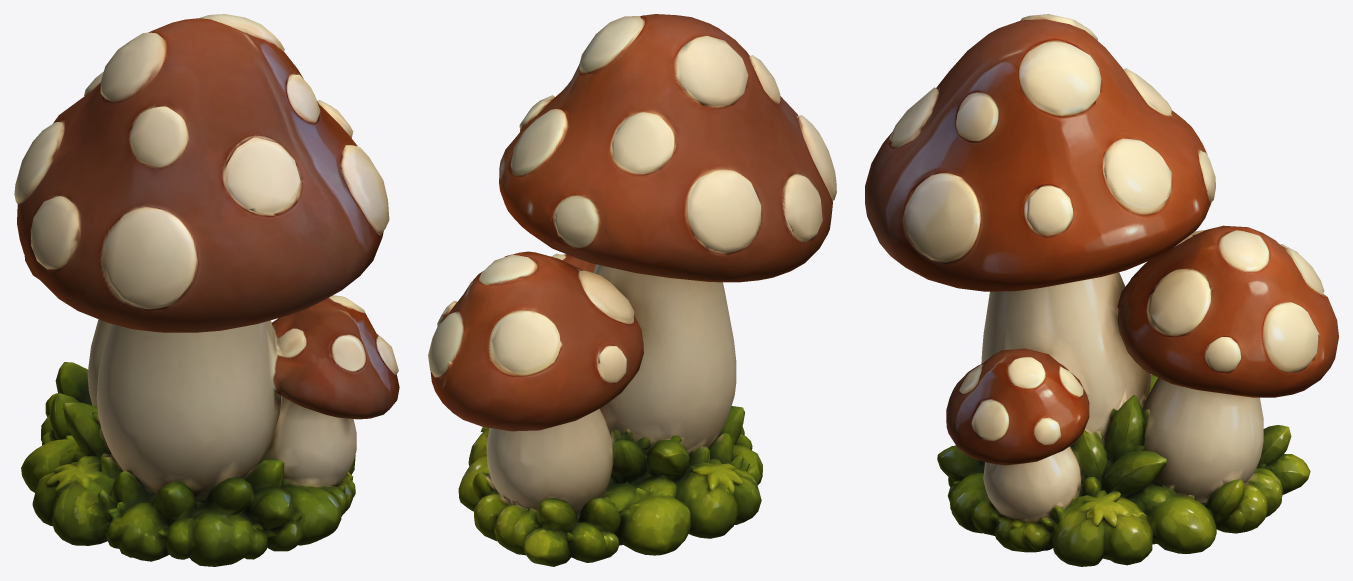
File: Kit_W_Mushrooms_HD_src.glb
3 renders of one model, left to right at view 1: azimuth 30°, elevation 25°; view 2: azimuth 150°, elevation 25°; view 3: azimuth 270°, elevation 25°, orthographic. The views are drawn at different scales.
Visible parts, largest first — view 1: tripo_node_db27c542-b125-45af-a920-c9c6f7f31ba9; view 2: tripo_node_db27c542-b125-45af-a920-c9c6f7f31ba9; view 3: tripo_node_db27c542-b125-45af-a920-c9c6f7f31ba9.
Part boxes in pixels (x1,y1,x2,y2): tripo_node_db27c542-b125-45af-a920-c9c6f7f31ba9: [14, 14, 399, 566]; tripo_node_db27c542-b125-45af-a920-c9c6f7f31ba9: [428, 14, 836, 566]; tripo_node_db27c542-b125-45af-a920-c9c6f7f31ba9: [865, 14, 1338, 566].
Size of the model in its own units: 0.6871 by 0.979 by 0.9036.
Materials: 1 (1 with a texture image).
